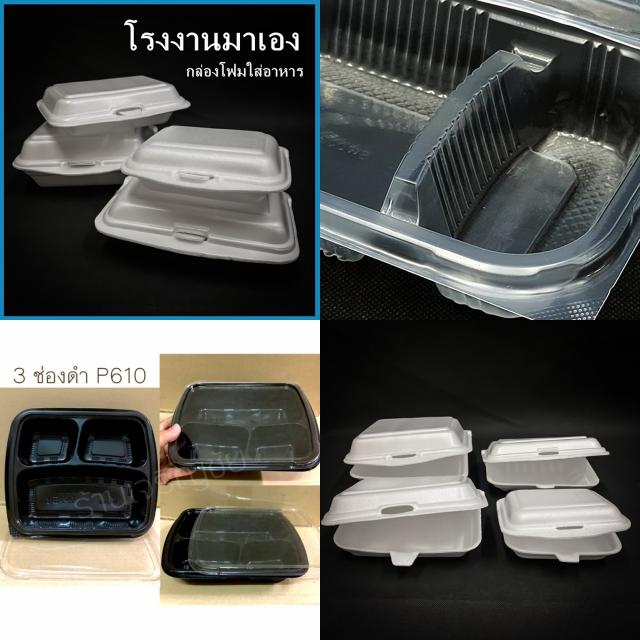Single-Use-Plastic: (320, 0, 640, 319), (5, 409, 158, 538), (95, 176, 299, 264), (321, 478, 488, 566), (169, 382, 319, 471), (121, 125, 291, 192), (161, 508, 309, 582), (496, 489, 631, 562), (38, 75, 190, 136), (12, 122, 151, 187), (344, 416, 472, 478), (481, 436, 609, 490)
